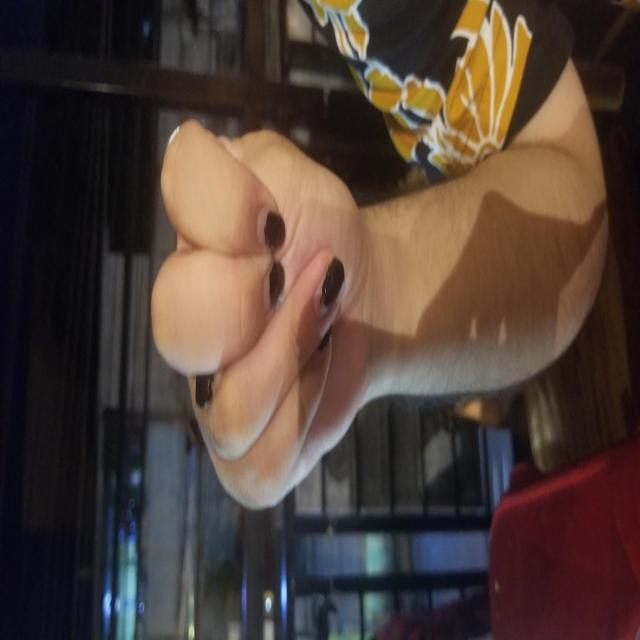N: (135, 148, 528, 364)
